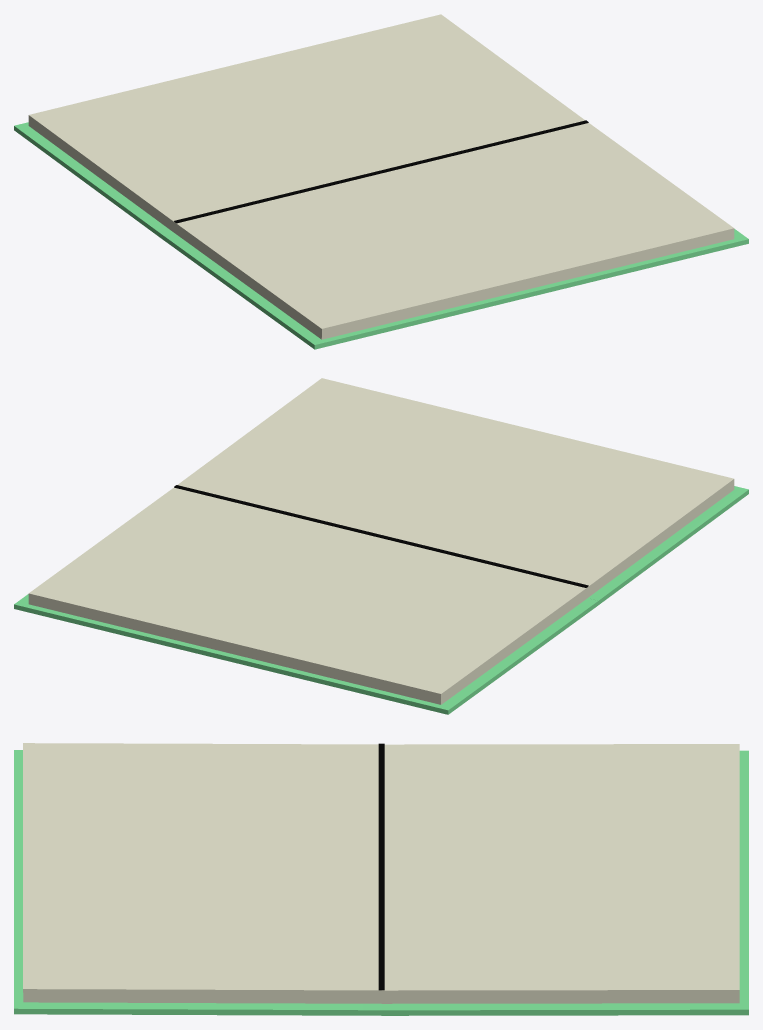
The model's file is libro animado.fbx.
The picture shows the model from 3 angles, top to bottom: view 1: azimuth 30°, elevation 25°; view 2: azimuth 150°, elevation 25°; view 3: azimuth 270°, elevation 25°; orthographic projection. The views are drawn at different scales.
Visible parts, largest first — view 1: Book_Left, Line in the middle; view 2: Book_Left, Line in the middle; view 3: Book_Left, Line in the middle.
Boxes of the visible parts, x1,y1,x2,y2 form: Book_Left: (14,14,748,349); Line in the middle: (174,120,588,223); Book_Left: (14,378,748,714); Line in the middle: (174,485,588,587); Book_Left: (14,743,748,1015); Line in the middle: (378,743,384,990).
Bounding box in the file's own units: 200 × 7.31 × 240.
